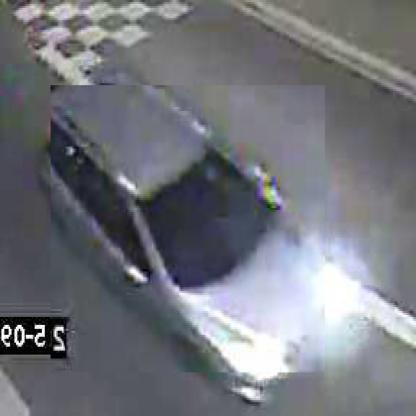car: (50, 87, 326, 376)
